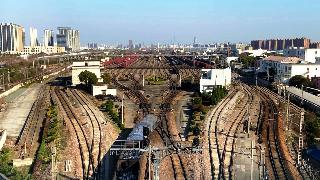train: (111, 113, 159, 180)
